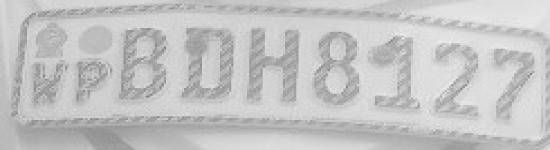1: (366, 31, 423, 116)
2: (426, 38, 486, 122)
7: (488, 44, 538, 125)
8: (306, 27, 365, 109)
B: (116, 22, 170, 106)
D: (179, 22, 240, 105)
H: (245, 22, 303, 109)
P: (75, 57, 116, 108)
W: (29, 61, 71, 107)
